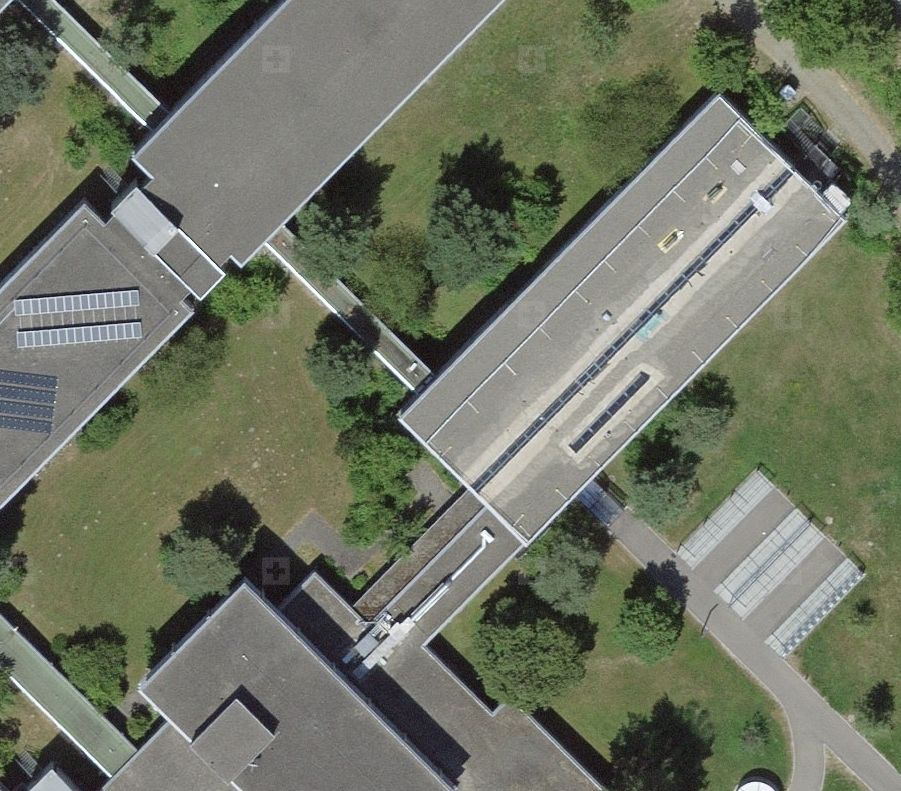solar: (13, 289, 146, 349), (1, 365, 58, 438)
